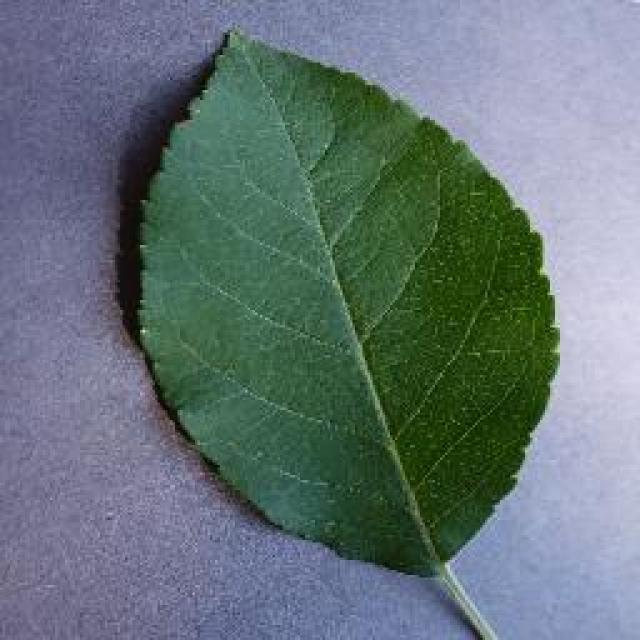apple healthy: (128, 22, 562, 580)
